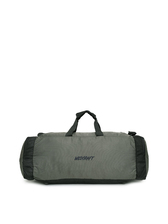bag: (20, 110, 153, 187)
